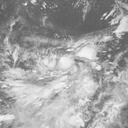cyclone: (39, 48, 87, 87)
